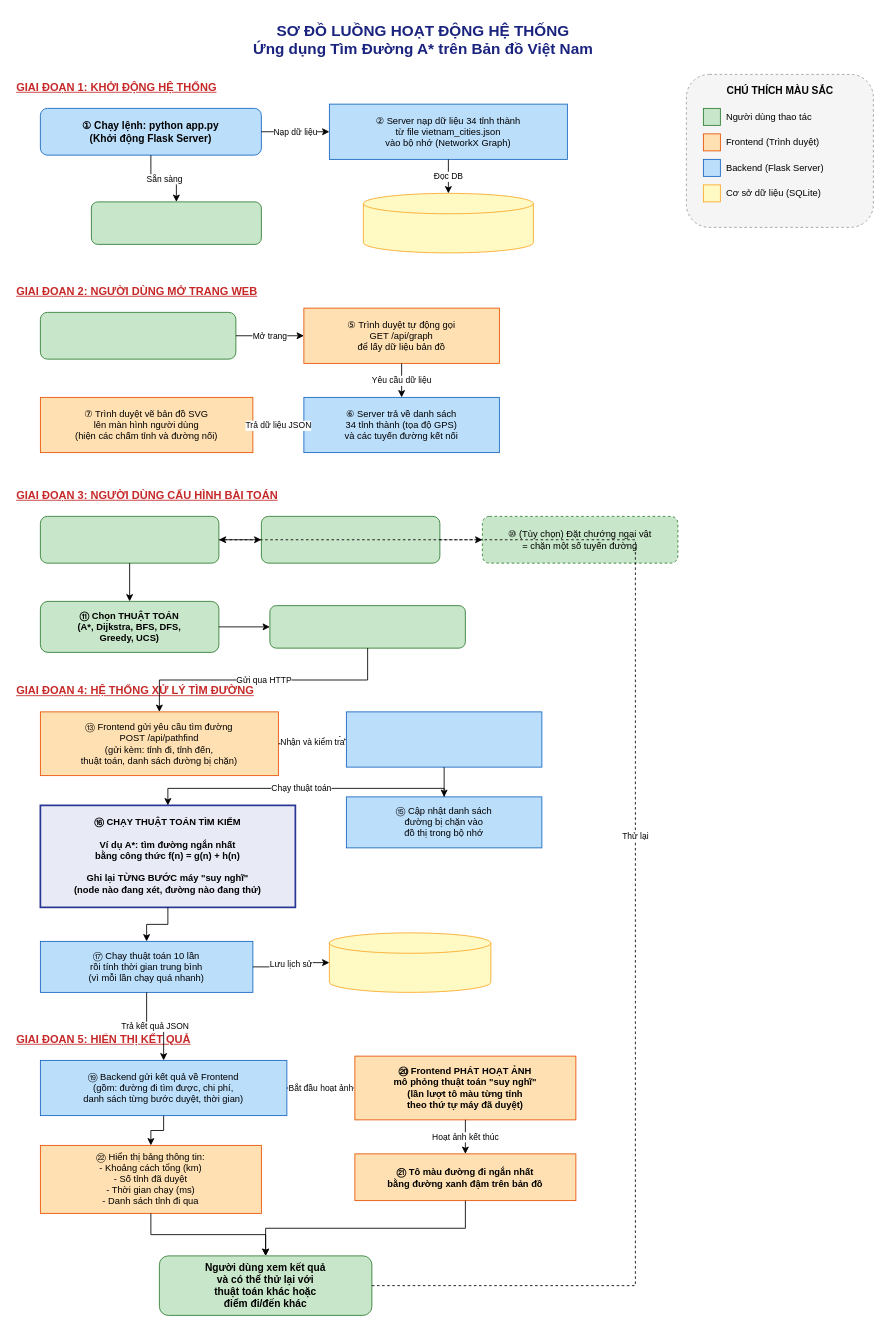
Some shapes in this 888 by 1330 pixel diagram are drawn without their labels. Each missing label, with the box of its shape:
Server sẵn sàng tại http://localhost:5000: (91, 201, 261, 244)
③ Đồng bộ dữ liệu cạnh (khoảng cách, trạng thái chặn) từ Database SQLite: (363, 193, 533, 253)
④ Người dùng mở trình duyệt truy cập localhost:5000: (40, 312, 236, 359)
⑧ Chọn điểm XUẤT PHÁT (click vào tỉnh trên bản đồ): (40, 516, 219, 563)
⑨ Chọn điểm ĐÍCH (click vào tỉnh thứ hai): (261, 516, 440, 563)
⑫ Bấm nút "TÌM ĐƯỜNG": (269, 605, 465, 648)
⑭ Backend nhận yêu cầu Kiểm tra dữ liệu hợp lệ (tỉnh có tồn tại không?): (346, 711, 542, 767)
⑱ Lưu kết quả vào bảng search_history trong Database: (329, 932, 491, 992)
